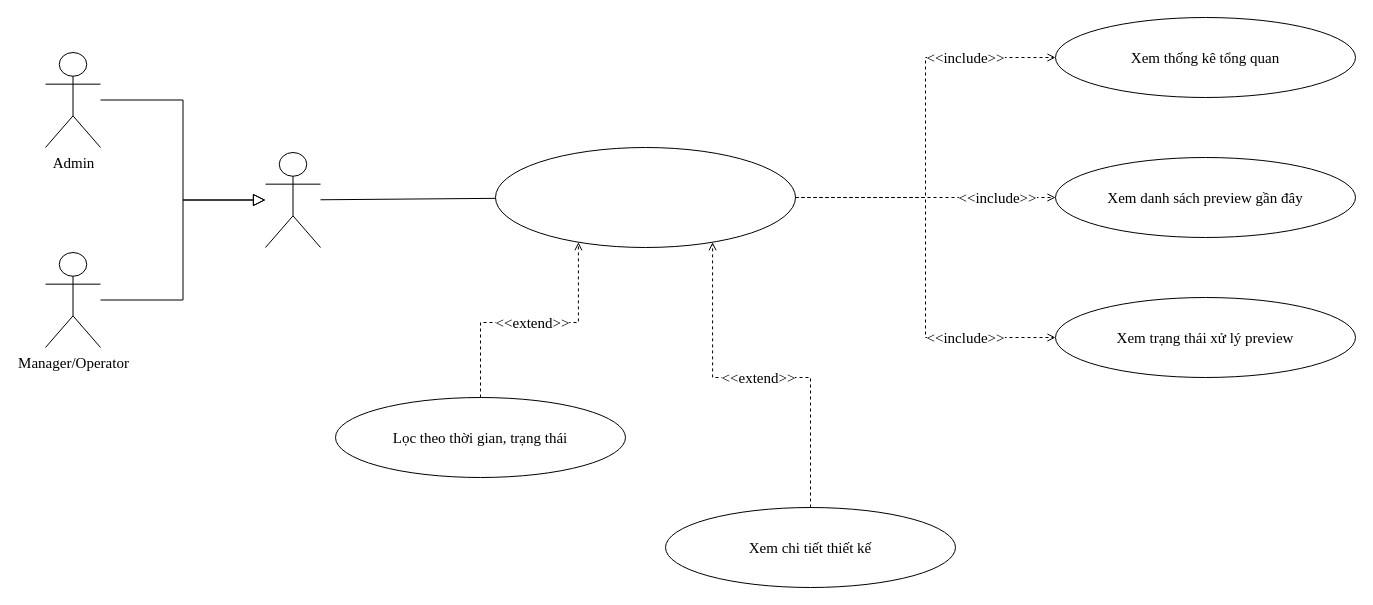
The diagram is 1373 pixels wide and 605 high, and some of its shapes have lost their labels. The shapes that lost their labels are listed below. From the top down, each one's centre as x and y in pixels, then its label:
At point 292,200: "Nhân viên quản lý".
At point 645,197: "Xem kết quả thiết kế và Dashboard".
